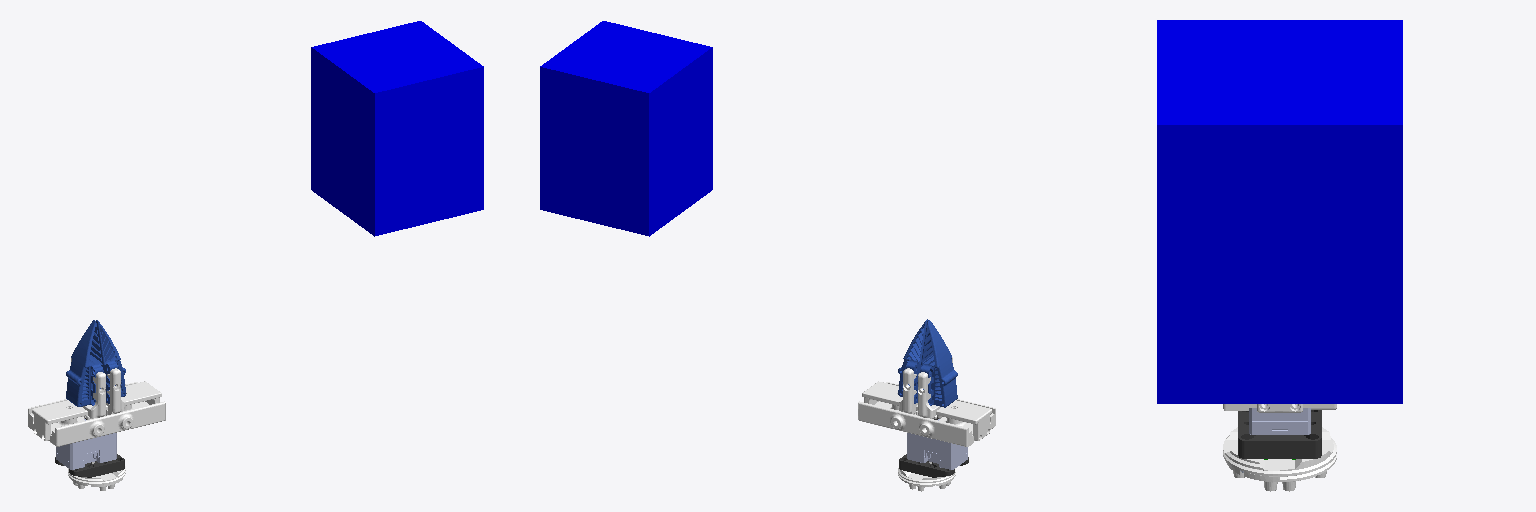
The robot description file, URDF, robot "rhand_gripper_robot":
<?xml version='1.0' encoding='utf-8'?>
<robot name="rhand_gripper_robot">
  <link name="rhand_xl_xc_330_1_2">
    <visual>
      <origin xyz="0 0 0" rpy="0 0 0" />
      <geometry>
        <mesh filename="package://dynamixel_detachable_hand/meshes/nejineji_finger_module/XL_XC_330_1_2.dae" />
      </geometry>
    </visual>
    <collision>
      <origin xyz="0 0 0" rpy="0 0 0" />
      <geometry>
        <mesh filename="package://dynamixel_detachable_hand/meshes/nejineji_finger_module/XL_XC_330_1_2.stl" />
      </geometry>
    </collision>
    <inertial>
      <origin xyz="7.9754e-05 -0.000522147 0.000155912" rpy="0 0 0" />
      <mass value="0.0168537" />
      <inertia ixx="2.4587e-06" ixy="-3.37625e-13" ixz="8.18258e-14" iyy="1.4263e-06" iyz="-4.79354e-08" izz="2.13125e-06" />
    </inertial>
  </link>
  <link name="rhand_bottom_spacer3300a_1">
    <visual>
      <origin xyz="0 0 0" rpy="0 0 0" />
      <geometry>
        <mesh filename="package://dynamixel_detachable_hand/meshes/nejineji_finger_module/buttom_spacer3300A_1.dae" />
      </geometry>
    </visual>
    <collision>
      <origin xyz="0 0 0" rpy="0 0 0" />
      <geometry>
        <mesh filename="package://dynamixel_detachable_hand/meshes/nejineji_finger_module/buttom_spacer3300A_1.stl" />
      </geometry>
    </collision>
    <inertial>
      <origin xyz="3.8e-08 1.4144e-05 0.000690651" rpy="0 0 0" />
      <mass value="0.00617072" />
      <inertia ixx="6.66254e-07" ixy="4.89446e-14" ixz="4.42692e-13" iyy="1.01649e-06" iyz="1.66262e-08" izz="3.91814e-07" />
    </inertial>
  </link>
  <link name="rhand_finger_11">
    <visual>
      <origin xyz="0 0 0" rpy="0 0 0" />
      <geometry>
        <mesh filename="package://dynamixel_detachable_hand/meshes/nejineji_finger_module/finger_11.dae" />
      </geometry>
    </visual>
    <collision>
      <origin xyz="0 0 0" rpy="0 0 0" />
      <geometry>
        <mesh filename="package://dynamixel_detachable_hand/meshes/nejineji_finger_module/finger_11.stl" />
      </geometry>
    </collision>
    <inertial>
      <origin xyz="0.00028687979 0.0026460947 0.023443637" rpy="0 0 0" />
      <mass value="0.0442481" />
      <inertia ixx="1.19476e-05" ixy="-1.25326e-06" ixz="1.6834e-06" iyy="1.32116e-05" iyz="8.62256e-07" izz="7.77573e-06" />
    </inertial>
  </link>
  <link name="rhand_finger_13">
    <visual>
      <origin xyz="0 0 0" rpy="0 0 0" />
      <geometry>
        <mesh filename="package://dynamixel_detachable_hand/meshes/nejineji_finger_module/finger_11_2.dae" />
      </geometry>
    </visual>
    <collision>
      <origin xyz="0 0 0" rpy="0 0 0" />
      <geometry>
        <mesh filename="package://dynamixel_detachable_hand/meshes/nejineji_finger_module/finger_11_2.stl" />
      </geometry>
    </collision>
    <inertial>
      <origin xyz="-0.0013329019 -0.0026460947 0.023443637" rpy="0 0 0" />
      <mass value="0.0442481" />
      <inertia ixx="1.19476e-05" ixy="-1.25326e-06" ixz="-1.6834e-06" iyy="1.32116e-05" iyz="-8.62256e-07" izz="7.77573e-06" />
    </inertial>
  </link>
  <link name="rhand_pinion_1">
    <visual>
      <origin xyz="0 0 0" rpy="0 0 0" />
      <geometry>
        <mesh filename="package://dynamixel_detachable_hand/meshes/nejineji_finger_module/pinion_1.dae" />
      </geometry>
    </visual>
    <collision>
      <origin xyz="0 0 0" rpy="0 0 0" />
      <geometry>
        <mesh filename="package://dynamixel_detachable_hand/meshes/nejineji_finger_module/pinion_1.stl" />
      </geometry>
    </collision>
    <inertial>
      <origin xyz="0 -7.1262e-05 9.7656e-05" rpy="0 0 0" />
      <mass value="0.00261444" />
      <inertia ixx="9.77225e-08" ixy="4.93411e-16" ixz="-1.32552e-16" iyy="9.77268e-08" iyz="-1.47807e-13" izz="1.80972e-07" />
    </inertial>
  </link>
  <link name="rhand_screwlock_male_1">
    <visual>
      <origin xyz="0 0 0" rpy="0 0 0" />
      <geometry>
        <mesh filename="package://dynamixel_detachable_hand/meshes/nejineji_finger_module/screwlock_male_1.dae" />
      </geometry>
    </visual>
    <collision>
      <origin xyz="0 0 0" rpy="0 0 0" />
      <geometry>
        <mesh filename="package://dynamixel_detachable_hand/meshes/nejineji_finger_module/screwlock_male_1.stl" />
      </geometry>
    </collision>
    <inertial>
      <origin xyz="-2.8667e-05 0.000879083 -3.9498e-05" rpy="0 0 0" />
      <mass value="0.0103795" />
      <inertia ixx="8.89533e-07" ixy="7.30713e-10" ixz="-1.58925e-09" iyy="1.59088e-06" iyz="2.26231e-09" izz="8.9266e-07" />
    </inertial>
  </link>
  <link name="rhand_base_link">
    <visual>
      <origin xyz="0 0 0" rpy="0 0 0" />
      <geometry>
        <mesh filename="package://dynamixel_detachable_hand/meshes/nejineji_finger_module/servo_and_case_simple_1.dae" />
      </geometry>
    </visual>
    <collision>
      <origin xyz="0 0 0" rpy="0 0 0" />
      <geometry>
        <mesh filename="package://dynamixel_detachable_hand/meshes/nejineji_finger_module/servo_and_case_simple_1.stl" />
      </geometry>
    </collision>
    <inertial>
      <origin xyz="4.1022654e-07 -2.0111843e-07 0.0025990495" rpy="0 0 0" />
      <mass value="0.0498606" />
      <inertia ixx="7.11208e-06" ixy="3.44902e-09" ixz="-8.05012e-12" iyy="2.86607e-05" iyz="9.35155e-11" izz="3.3854e-05" />
    </inertial>
  </link>
  <link name="rhand_small_diameter_hornb_1">
    <visual>
      <origin xyz="0 0 0" rpy="0 0 0" />
      <geometry>
        <mesh filename="package://dynamixel_detachable_hand/meshes/nejineji_finger_module/small_diameter_hornB_1.dae" />
      </geometry>
    </visual>
    <collision>
      <origin xyz="0 0 0" rpy="0 0 0" />
      <geometry>
        <mesh filename="package://dynamixel_detachable_hand/meshes/nejineji_finger_module/small_diameter_hornB_1.stl" />
      </geometry>
    </collision>
    <inertial>
      <origin xyz="-5.067e-06 0 -6.0142e-05" rpy="0 0 0" />
      <mass value="0.000682303" />
      <inertia ixx="1.02178e-08" ixy="2.7465e-25" ixz="-5.18874e-15" iyy="1.02178e-08" iyz="9.34299e-26" izz="1.89764e-08" />
    </inertial>
  </link>
  <link name="rhand_tip_link" />
  <link name="rhand_detach_link_0">
    <visual>
      <origin rpy="0 0 0" xyz="0.12 0 0.05" />
      <geometry>
        <box size="0.08 0.08 0.1" />
      </geometry>
      <material name="detacher_blue">
        <color rgba="0 0 1 1" />
      </material>
    </visual>
  </link>
  <joint name="rhand_servo_and_case_simple_1__xl_xc_330_1_2" type="fixed">
    <origin xyz="-0.0067468 7.9755e-05 -0.015702072" rpy="0 0 -1.5707963" />
    <parent link="rhand_base_link" />
    <child link="rhand_xl_xc_330_1_2" />
    <axis xyz="0 0 -1" />
  </joint>
  <joint name="rhand_servo_and_case_simple_1__pinion_1" type="fixed">
    <origin xyz="-6.95e-06 -7.0943e-05 0.005234895" rpy="-3.141592607 0 -0.09765488" />
    <parent link="rhand_base_link" />
    <child link="rhand_pinion_1" />
    <axis xyz="-0 0 -1" />
  </joint>
  <joint name="rhand_servo_and_case_simple_1__small_diameter_hornb_1" type="fixed">
    <origin xyz="-5.065e-06 0 0.000967784" rpy="0 0 -3.141592607" />
    <parent link="rhand_base_link" />
    <child link="rhand_small_diameter_hornb_1" />
    <axis xyz="0 1 0" />
  </joint>
  <joint name="rhand_xl_xc_330_1_2__buttom_spacer3300a_1" type="fixed">
    <origin xyz="7.9799e-05 0.003444766 -0.015364374" rpy="-1.5707963 0 3.141592607" />
    <parent link="rhand_xl_xc_330_1_2" />
    <child link="rhand_bottom_spacer3300a_1" />
    <axis xyz="0 -1 0" />
  </joint>
  <joint name="rhand_buttom_spacer3300a_1__screwlock_male_1" type="fixed">
    <origin xyz="-5.6e-06 0.007707033 -0.003298772" rpy="0 -1.570796301 0" />
    <parent link="rhand_bottom_spacer3300a_1" />
    <child link="rhand_screwlock_male_1" />
    <axis xyz="-0 1 -0" />
  </joint>
  <!-- motor angle (revolute: continuous would make ROS 1 trajectories wrap); fingers follow config/rhand/gripper_loop_couplings.yaml -->
  <link name="rhand_motor_link" />
  <joint name="rhand_joint" type="revolute">
    <parent link="rhand_base_link" />
    <child link="rhand_motor_link" />
    <axis xyz="0 0 1" />
    <limit lower="-12.566" upper="12.566" effort="2.0" velocity="6.8" />
  </joint>
  <joint name="rhand_finger_joint" type="prismatic">
    <origin xyz="0 0 0" rpy="0 -0 0" />
    <parent link="rhand_base_link" />
    <child link="rhand_finger_11" />
    <axis xyz="-1 0 0" />
    <limit lower="0" upper="0.05" effort="2.0" velocity="0.1" />
  </joint>
  <joint name="rhand_finger_mimic_joint" type="prismatic">
    <origin xyz="0 0 0" rpy="0 -0 0" />
    <parent link="rhand_base_link" />
    <child link="rhand_finger_13" />
    <axis xyz="-1 0 0" />
    <limit lower="-0.05" upper="0" effort="10" velocity="3.14" />
    <mimic joint="rhand_finger_joint" multiplier="-1" offset="0" />
  </joint>
  <joint name="rhand_to_tip" type="fixed">
    <origin xyz="0 0 0.06743" rpy="0 0 0" />
    <parent link="rhand_base_link" />
    <child link="rhand_tip_link" />
  </joint>
  <joint name="rhand_detach_joint_0" type="continuous">
    <origin rpy="0 0 0" xyz="0.1 0 0.1" />
    <parent link="rhand_base_link" />
    <child link="rhand_detach_link_0" />
    <axis xyz="0 1 0" />
    <limit effort="2.0" velocity="6.8" />
  </joint>
  <transmission name="rhand_trans">
    <type>transmission_interface/SimpleTransmission</type>
    <joint name="rhand_joint">
      <hardwareInterface>hardware_interface/PositionJointInterface</hardwareInterface>
      <hardwareInterface>hardware_interface/EffortJointInterface</hardwareInterface>
      <offset>0.0</offset>
    </joint>
    <actuator name="rhand_motor">
      <mechanicalReduction>1.0</mechanicalReduction>
    </actuator>
  </transmission>
  <transmission name="rhand_detach_0_trans">
    <type>transmission_interface/SimpleTransmission</type>
    <joint name="rhand_detach_joint_0">
      <hardwareInterface>hardware_interface/PositionJointInterface</hardwareInterface>
      <hardwareInterface>hardware_interface/EffortJointInterface</hardwareInterface>
      <offset>0.0</offset>
    </joint>
    <actuator name="rhand_detach_motor_0">
      <mechanicalReduction>1.0</mechanicalReduction>
    </actuator>
  </transmission>

  <!-- Dynamixel motor (ros2_control, dynamixel_hardware_interface) -->
  <ros2_control name="rhand_gripper" type="system">
    <hardware>
      <plugin>dynamixel_hardware_interface/DynamixelHardware</plugin>
      <param name="port_name">/dev/rhand</param>
      <param name="baud_rate">57600</param>
      <param name="number_of_joints">1</param>
      <param name="number_of_transmissions">1</param>
      <param name="dynamixel_model_folder">/param/dxl_model</param>
      <param name="disable_torque_at_init">true</param>
      <param name="error_timeout_ms">1000</param>
      <param name="dynamixel_state_pub_msg_name">gripper/dxl_state</param>
      <param name="get_dynamixel_data_srv_name">gripper/get_dxl_data</param>
      <param name="set_dynamixel_data_srv_name">gripper/set_dxl_data</param>
      <param name="reboot_dxl_srv_name">gripper/reboot_dxl</param>
      <param name="set_dxl_torque_srv_name">gripper/set_dxl_torque</param>
      <param name="protocol_version">2.0</param>
      <param name="initialize_communication_on_configure">true</param>
    </hardware>
    <gpio name="rhand_motor">
      <param name="ID">3</param>
      <param name="type">dxl</param>
      <param name="Return Delay Time">0</param>
      <param name="Operating Mode">5</param>
      <param name="Torque Enable">1</param>
      <param name="[unit info]">Present Current,0.00115,N m,signed,0.0;Goal Current,0.00115,N m,signed,0.0</param>
      <command_interface name="Goal Position" />
      <command_interface name="Goal Current" />
      <state_interface name="Present Position" />
      <state_interface name="Present Velocity" />
      <state_interface name="Present Current" />
    </gpio>
    <joint name="rhand_joint">
      <command_interface name="position" />
      <command_interface name="effort" />
      <state_interface name="position" />
      <state_interface name="velocity" />
      <state_interface name="effort" />
      <state_interface name="hardware_state" />
      <state_interface name="torque_enable" />
    </joint>
  </ros2_control>
</robot>

--- Render facts (derived) ---
3 views of the same robot in one strip: view 1: azimuth 30°, elevation 25°; view 2: azimuth 150°, elevation 25°; view 3: azimuth 270°, elevation 25° (orthographic).
Model rhand_gripper_robot with 11 links and 10 joints (1 revolute, 1 continuous, 2 prismatic, 6 fixed), rooted at rhand_base_link, posed every joint at zero.
Links seen in each view (by area): view 1: rhand_detach_link_0, rhand_base_link, rhand_finger_11, rhand_finger_13, rhand_xl_xc_330_1_2, rhand_bottom_spacer3300a_1, rhand_screwlock_male_1; view 2: rhand_detach_link_0, rhand_base_link, rhand_finger_11, rhand_xl_xc_330_1_2, rhand_finger_13, rhand_bottom_spacer3300a_1, rhand_screwlock_male_1; view 3: rhand_detach_link_0, rhand_screwlock_male_1, rhand_bottom_spacer3300a_1, rhand_xl_xc_330_1_2, rhand_base_link.
Link boxes in pixels (<box>): rhand_detach_link_0: <box>311,21,483,236</box>; rhand_base_link: <box>28,381,165,446</box>; rhand_finger_11: <box>66,320,105,419</box>; rhand_finger_13: <box>61,320,125,426</box>; rhand_xl_xc_330_1_2: <box>56,419,116,469</box>; rhand_bottom_spacer3300a_1: <box>55,454,124,477</box>; rhand_screwlock_male_1: <box>68,462,125,490</box>; rhand_detach_link_0: <box>540,21,712,236</box>; rhand_base_link: <box>858,381,995,446</box>; rhand_finger_11: <box>880,320,957,418</box>; rhand_xl_xc_330_1_2: <box>907,419,967,469</box>; rhand_finger_13: <box>898,319,928,413</box>; rhand_bottom_spacer3300a_1: <box>899,454,968,477</box>; rhand_screwlock_male_1: <box>898,462,955,491</box>; rhand_detach_link_0: <box>1157,20,1402,403</box>; rhand_screwlock_male_1: <box>1223,427,1336,491</box>; rhand_bottom_spacer3300a_1: <box>1238,410,1321,458</box>; rhand_xl_xc_330_1_2: <box>1249,408,1310,434</box>; rhand_base_link: <box>1223,404,1336,412</box>.
Bounding box of the posed robot: 0.302 × 0.08 × 0.2455 m (x, y, z).
8 mesh visuals loaded from 8 distinct referenced files (8 Collada DAE).
